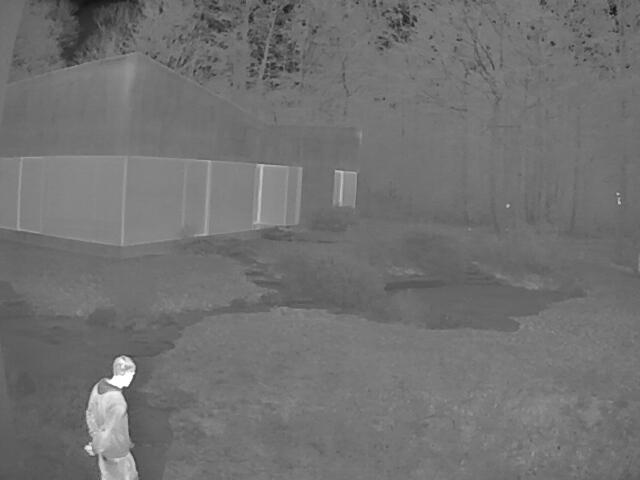person: (84, 354, 138, 479)
